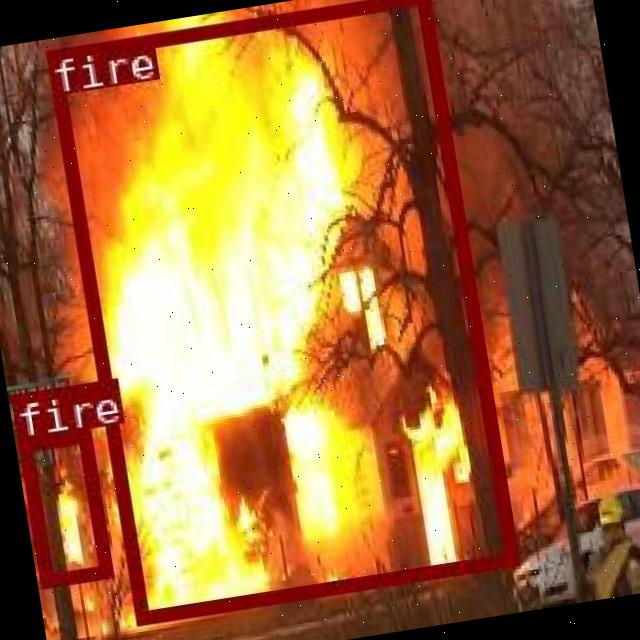fire: (44, 0, 514, 622), (16, 427, 110, 585)
